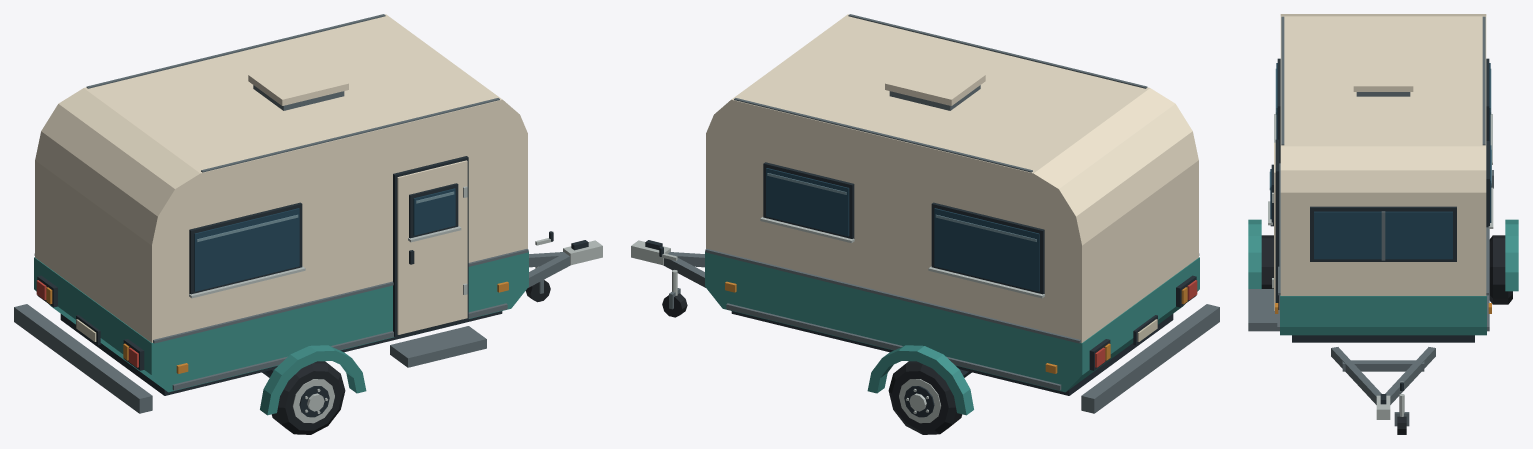
The model's file is 02_rambler_retro.glb.
3 renders of one model, left to right at view 1: azimuth 30°, elevation 25°; view 2: azimuth 150°, elevation 25°; view 3: azimuth 270°, elevation 25°, orthographic. The views are drawn at different scales.
Parts seen in each view (by area): view 1: Faceted ivory shell, Teal lower body, Entry door_panel, Rear lounge window 1_glass, Rear bumper, Ivory roof vent lid, Teal wheel arch 1, Single axle wheel 1_tire, Entry step, Entry door_seal, Lower chassis, Entry door_window_glass (+10 smaller); view 2: Faceted ivory shell, Teal lower body, Rear lounge window -1_glass, Opposite kitchen window_glass, Rear bumper, Ivory roof vent lid, Teal wheel arch -1, Single axle wheel -1_tire, Side lower sill -1, Side waist trim -1, Lower chassis, Rear lounge window -1_gasket (+7 smaller); view 3: Faceted ivory shell, Teal lower body, Front panorama glass, Ivory roof vent lid, Front panorama frame, Lower chassis, Single axle wheel -1_tire, Entry step, Teal wheel arch -1, Teal wheel arch 1, Drawbar_1, Entry door_seal (+12 smaller).
Part boxes in pixels (x1=…): Faceted ivory shell: x1=35, y1=14, x2=527, y2=342; Teal lower body: x1=34, y1=251, x2=528, y2=392; Entry door_panel: x1=397, y1=160, x2=467, y2=334; Rear lounge window 1_glass: x1=194, y1=208, x2=299, y2=291; Rear bumper: x1=14, y1=304, x2=152, y2=413; Ivory roof vent lid: x1=248, y1=59, x2=348, y2=105; Teal wheel arch 1: x1=260, y1=345, x2=366, y2=415; Single axle wheel 1_tire: x1=271, y1=361, x2=345, y2=434; Entry step: x1=390, y1=326, x2=486, y2=367; Entry door_seal: x1=393, y1=156, x2=468, y2=337; Lower chassis: x1=60, y1=311, x2=502, y2=395; Entry door_window_glass: x1=413, y1=188, x2=455, y2=235; Faceted ivory shell: x1=706, y1=14, x2=1198, y2=342; Teal lower body: x1=705, y1=251, x2=1199, y2=392; Rear lounge window -1_glass: x1=934, y1=208, x2=1039, y2=291; Opposite kitchen window_glass: x1=766, y1=168, x2=849, y2=236; Rear bumper: x1=1081, y1=304, x2=1219, y2=413; Ivory roof vent lid: x1=885, y1=59, x2=985, y2=105; Teal wheel arch -1: x1=867, y1=345, x2=973, y2=415; Single axle wheel -1_tire: x1=888, y1=361, x2=962, y2=434; Side lower sill -1: x1=726, y1=303, x2=1061, y2=390; Side waist trim -1: x1=705, y1=249, x2=1080, y2=343; Lower chassis: x1=731, y1=311, x2=1173, y2=395; Rear lounge window -1_gasket: x1=931, y1=202, x2=1044, y2=294; Faceted ivory shell: x1=1280, y1=14, x2=1486, y2=295; Teal lower body: x1=1280, y1=295, x2=1486, y2=335; Front panorama glass: x1=1314, y1=211, x2=1452, y2=259; Ivory roof vent lid: x1=1353, y1=57, x2=1413, y2=91; Front panorama frame: x1=1310, y1=206, x2=1456, y2=261; Lower chassis: x1=1292, y1=335, x2=1474, y2=342; Single axle wheel -1_tire: x1=1489, y1=235, x2=1512, y2=304; Entry step: x1=1248, y1=289, x2=1277, y2=331; Teal wheel arch -1: x1=1505, y1=219, x2=1518, y2=291; Teal wheel arch 1: x1=1248, y1=219, x2=1261, y2=288; Drawbar_1: x1=1331, y1=347, x2=1381, y2=404; Entry door_seal: x1=1275, y1=139, x2=1279, y2=309.
Bounding box in the file's own units: 5.16 × 2.74 × 2.63.
